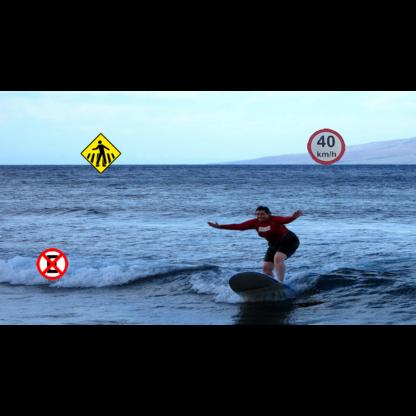A-32b: (80, 133, 121, 174)
R-19: (307, 128, 345, 165)
R-6c: (36, 248, 68, 280)
